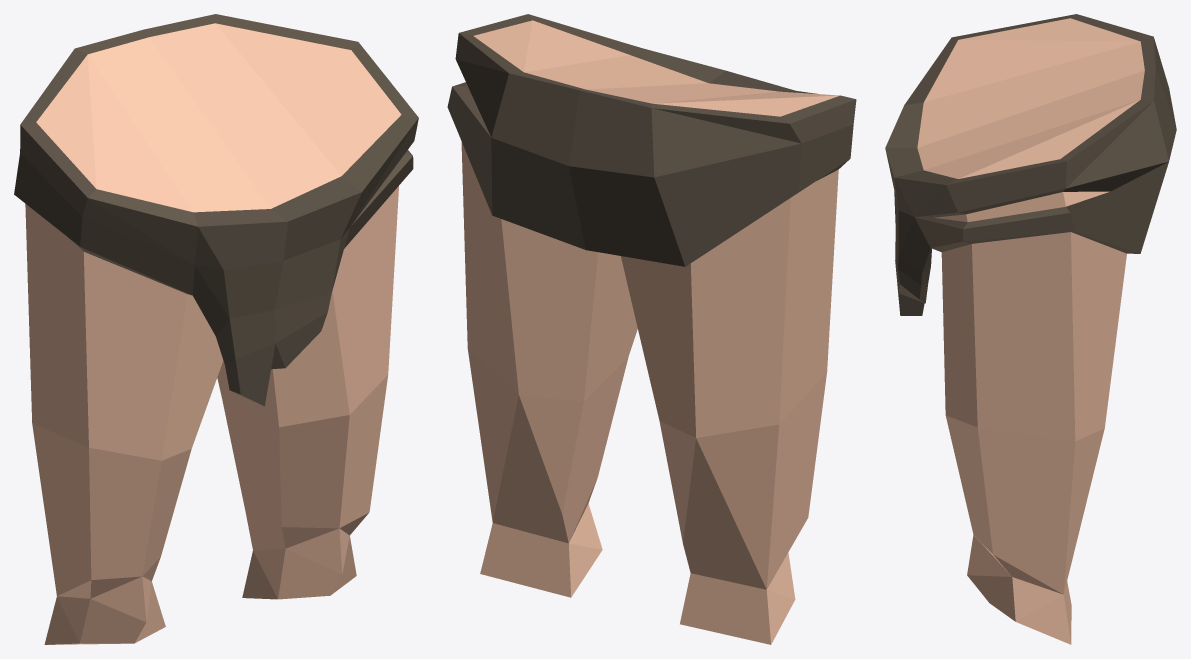
The model's file is Chr_Hips_Female_00_Static.fbx.
The picture shows the model from 3 angles, left to right: view 1: azimuth 30°, elevation 25°; view 2: azimuth 150°, elevation 25°; view 3: azimuth 270°, elevation 25°; orthographic projection. The views are drawn at different scales.
Visible parts, largest first — view 1: Chr_Hips_Female_00_Static; view 2: Chr_Hips_Female_00_Static; view 3: Chr_Hips_Female_00_Static.
Part boxes in pixels (x1,y1,x2,y2): Chr_Hips_Female_00_Static: [14, 14, 418, 644]; Chr_Hips_Female_00_Static: [447, 14, 856, 644]; Chr_Hips_Female_00_Static: [885, 14, 1176, 644].
Size of the model in its own units: 0.3826 by 0.5773 by 0.2973.
